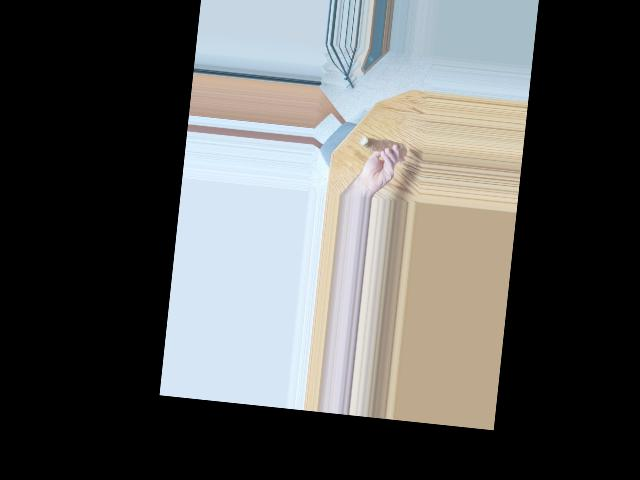sweet_potato: (357, 134, 407, 160)
